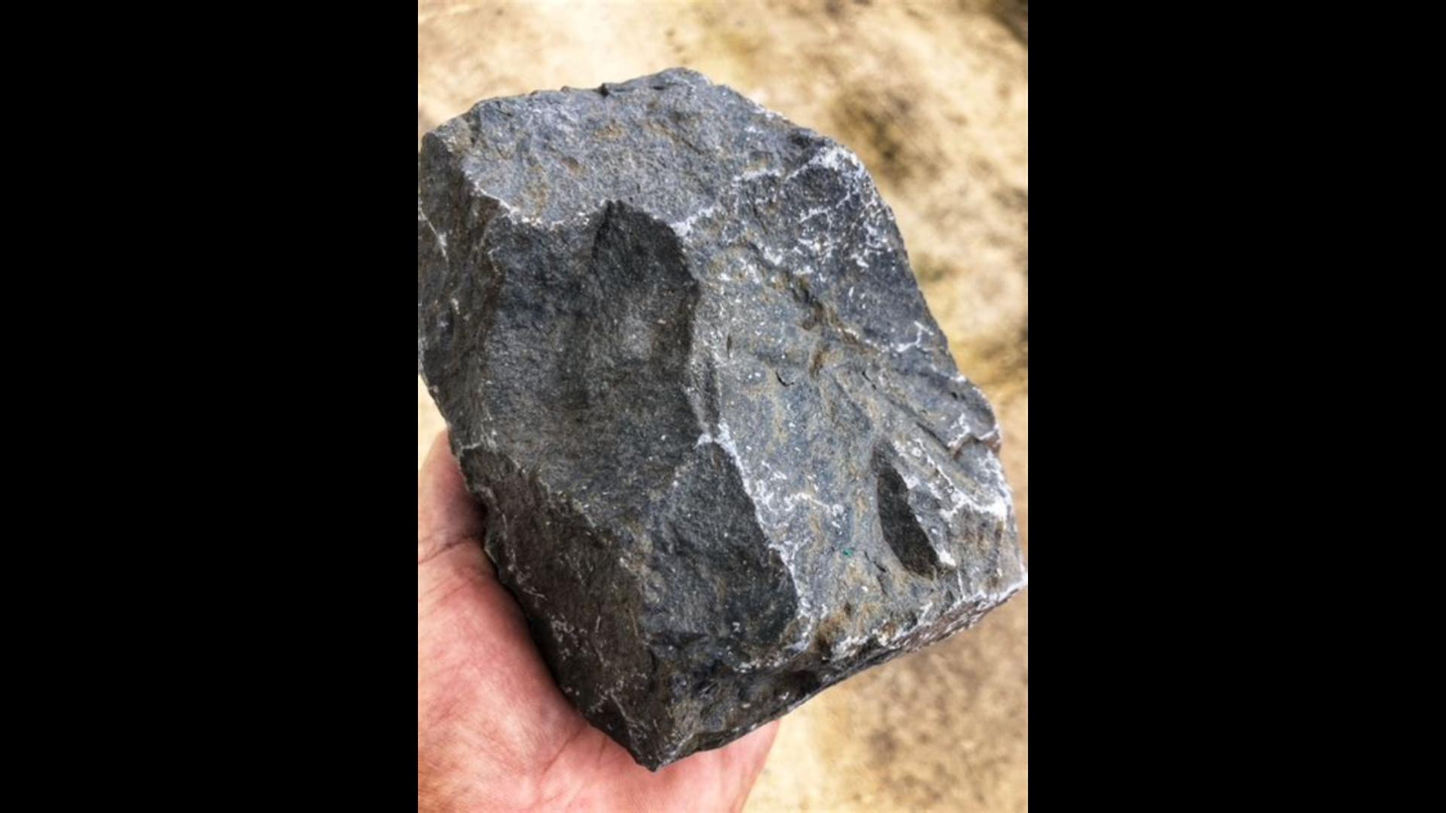rock: (423, 69, 1023, 767)
